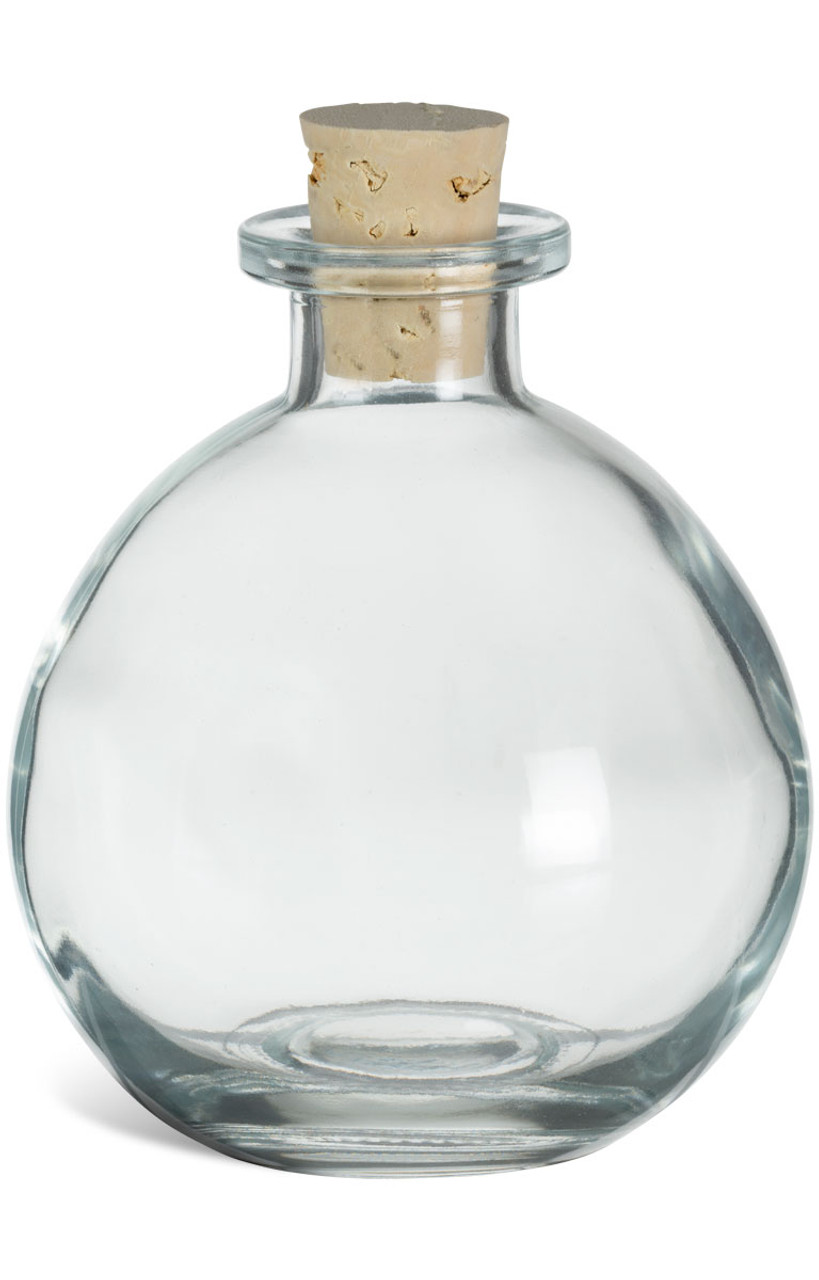glass_bottle: (8, 84, 816, 1204)
